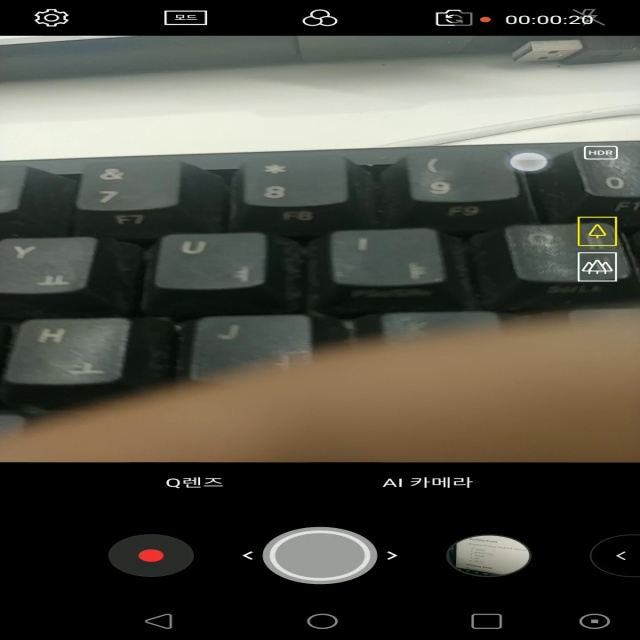Cursor: (506, 151, 551, 173)
